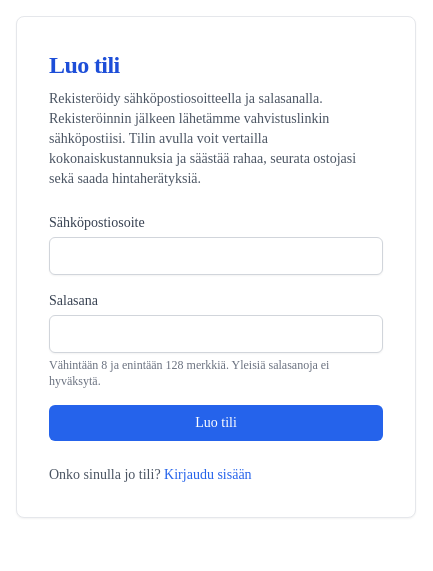
RegisterPage › maps a 409 duplicate email to the duplicate message
The image size is (433, 571).
Type "kayttaja@example.fi" into the field labelled "Sähköpostiosoite" at [216, 256], box [49,237,383,275]
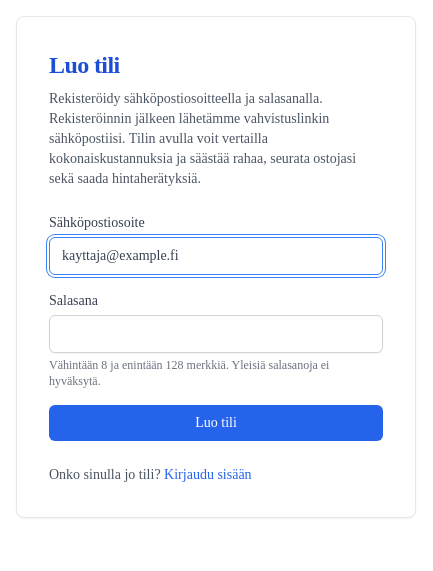
Type "salasana-12-merkKIna" into the password field labelled "Salasana" at [216, 334], box [49,315,383,353]
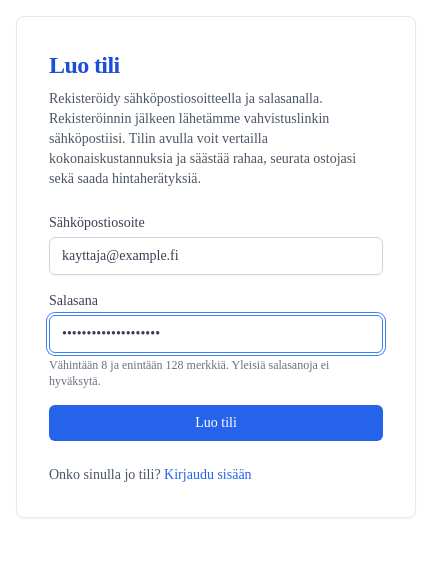
Click the button with test id "register-submit" at [216, 423], box [49,405,383,441]
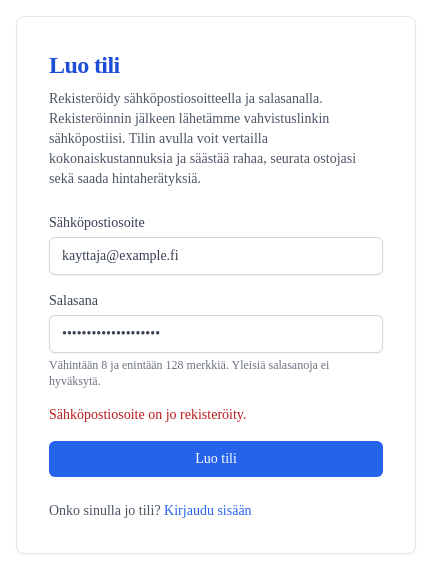
Expected: the message with test id "register-failure" reads "Sähköpostiosoite on jo rekisteröity.", [49,407,246,422]
